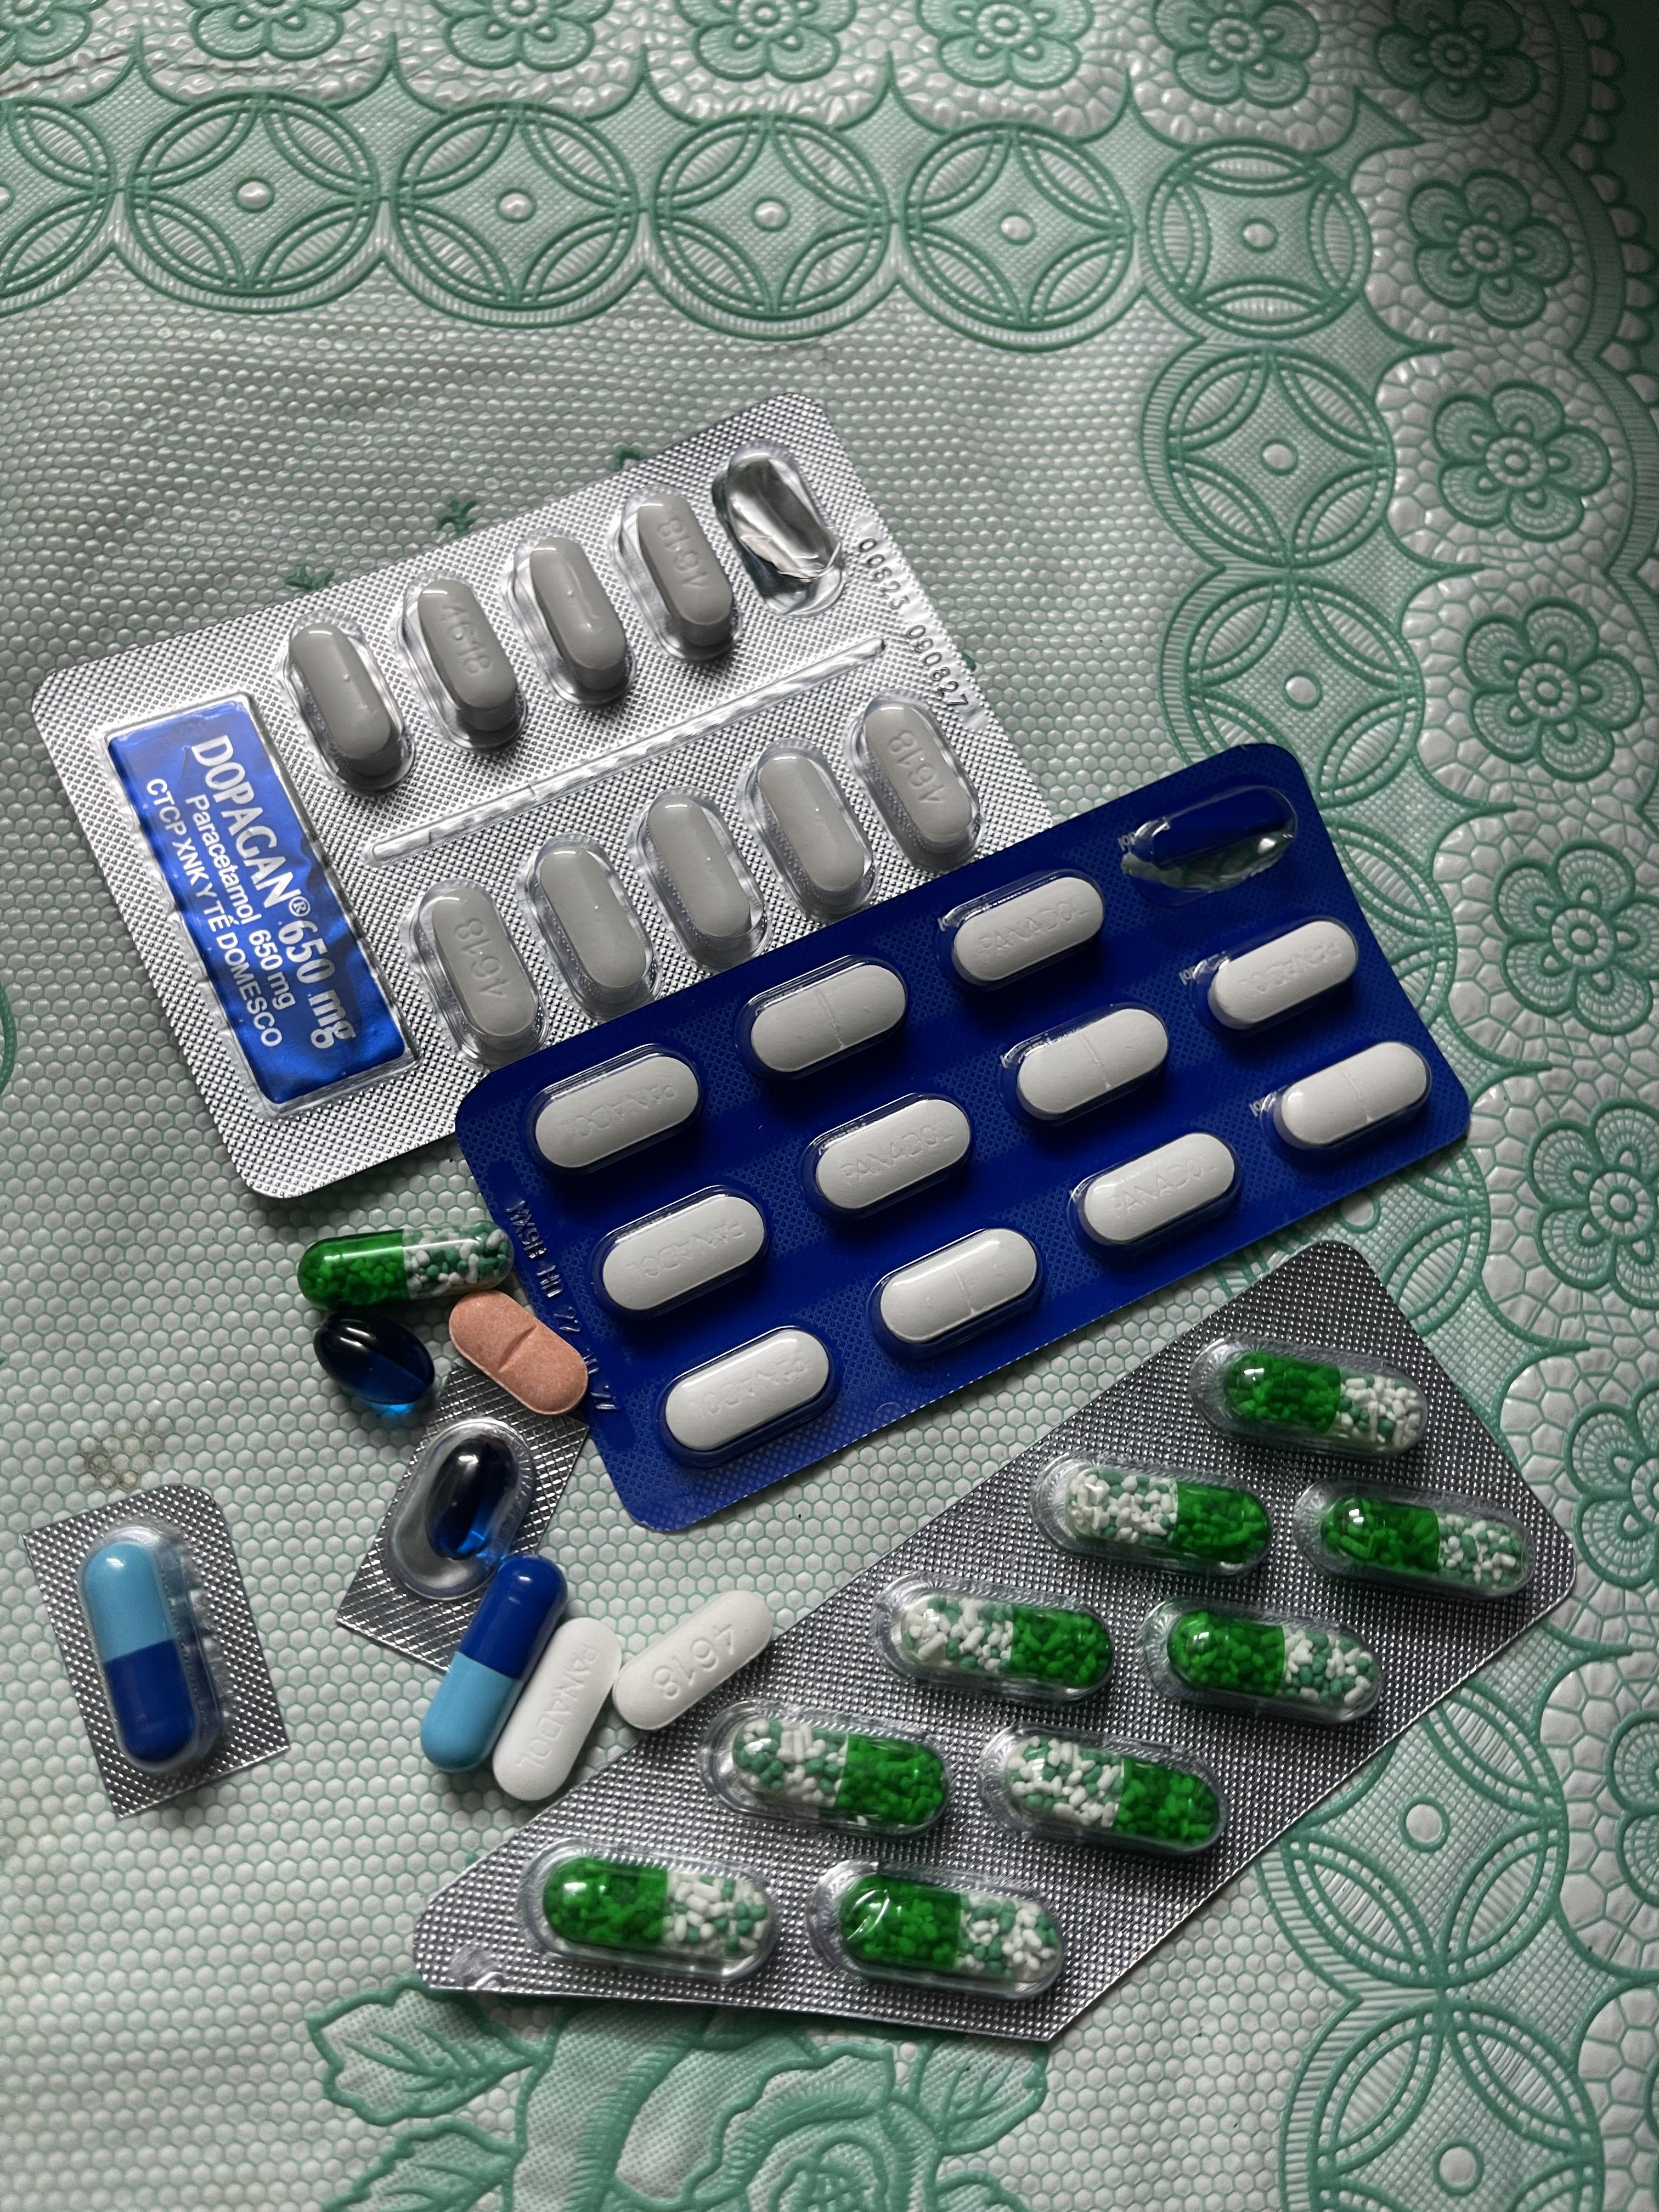Lincomyxin_500mg: (312, 1310, 439, 1416), (430, 1440, 514, 1555)
Loratadine_10mg: (451, 1284, 591, 1413)
Paracetamol_350mg: (490, 1616, 620, 1804), (805, 1090, 983, 1223), (662, 1325, 840, 1458), (875, 1223, 1047, 1357), (739, 954, 911, 1089), (594, 1186, 770, 1317), (1263, 1038, 1434, 1160), (1080, 1132, 1241, 1258), (948, 866, 1112, 988), (1006, 1003, 1162, 1129), (533, 1054, 701, 1169), (1201, 916, 1359, 1033)
Paracetamol_500mg: (523, 831, 662, 1015), (631, 786, 765, 968), (410, 880, 542, 1061), (742, 742, 878, 918), (612, 1592, 777, 1733), (849, 695, 978, 873), (401, 575, 528, 754), (286, 620, 415, 796), (509, 536, 638, 711), (617, 486, 744, 662)
Paracetamol_650mg: (544, 1857, 769, 1963), (836, 1879, 1058, 1982), (735, 1719, 943, 1825), (896, 1592, 1107, 1691), (1011, 1737, 1201, 1844), (1218, 1353, 1424, 1453), (1317, 1496, 1527, 1594), (1169, 1615, 1366, 1710), (298, 1223, 509, 1306), (1082, 1475, 1258, 1568)
pill: (80, 1526, 216, 1777), (416, 1555, 568, 1775)
